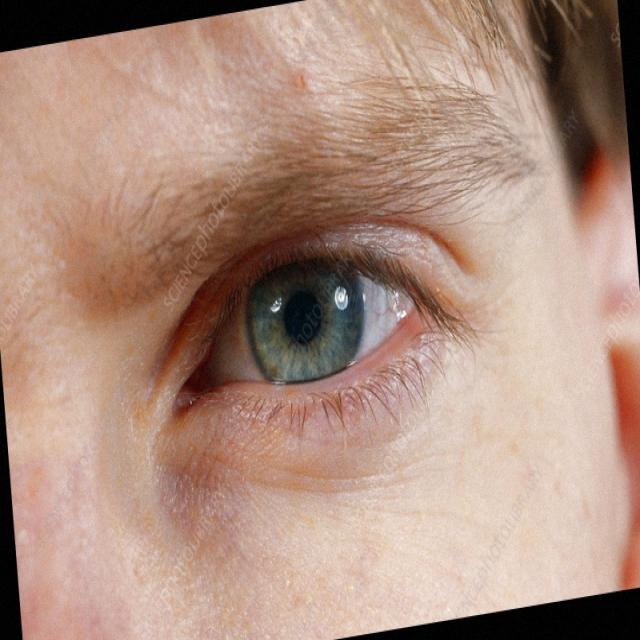Healthy-Eye: (119, 215, 483, 475)
